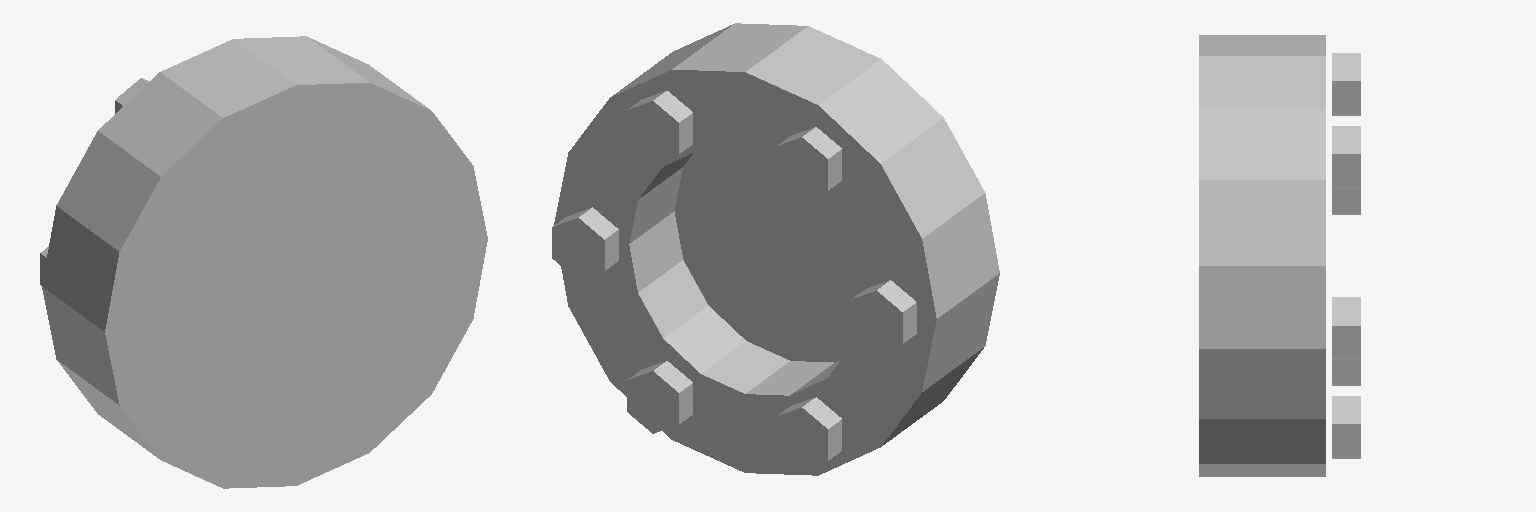
The model's file is pipe_base.obj.
3 views of the same model, side by side, from view 1: azimuth 30°, elevation 25°; view 2: azimuth 150°, elevation 25°; view 3: azimuth 270°, elevation 25° (orthographic).
Visible parts, largest first — view 1: Cylinder; view 2: Cylinder; view 3: Cylinder.
Part boxes in pixels (left/top/right/bottom): Cylinder: left=40, top=36, right=487, bottom=488; Cylinder: left=552, top=23, right=999, bottom=475; Cylinder: left=1199, top=35, right=1360, bottom=476.
Size of the model in its own units: 0.3978 by 0.3978 by 0.1456.